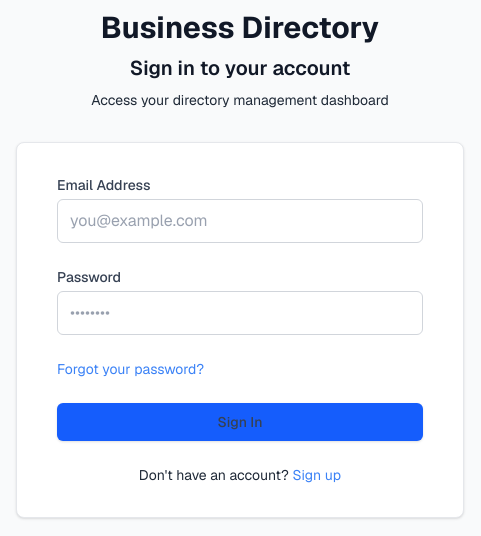
Scenario: Form Validation and Error States › Form Field Disabled States During Loading › login form disables fields during submission
The image size is (481, 536).
Type "test@example.com" into the field labelled "Email Address".
click(240, 221); type("test@example.com")  # box [57,199,423,243]
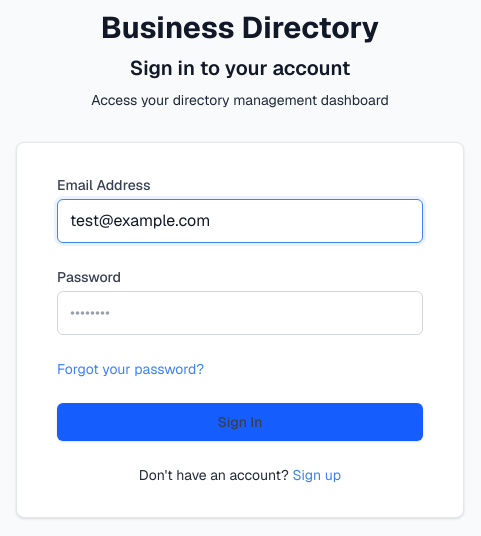
Type "password123" into the password field labelled "Password".
click(240, 313); type("password123")  # box [57,291,423,335]
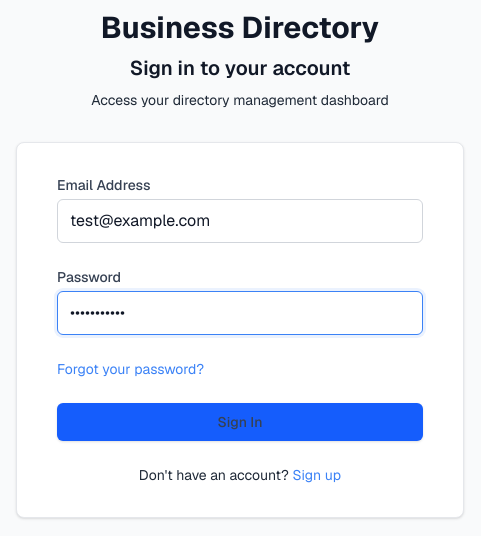
Click the button "Sign In".
click(240, 422)  # box [57,403,423,441]
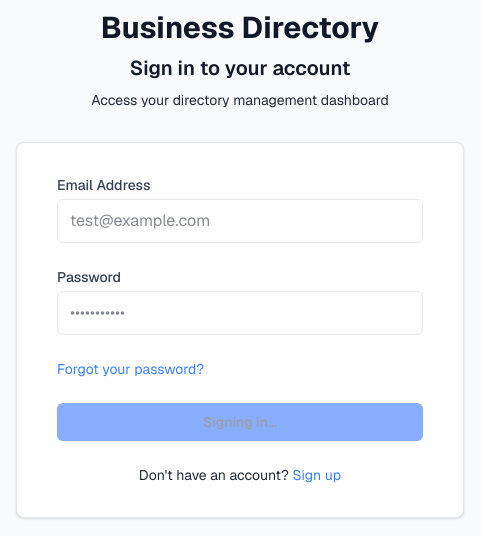
Now the field labelled "Email Address" is disabled, box [57,199,423,243]
Now the password field labelled "Password" is disabled, box [57,291,423,335]
Now the button named "Sign In" is disabled, box [57,403,423,441]
